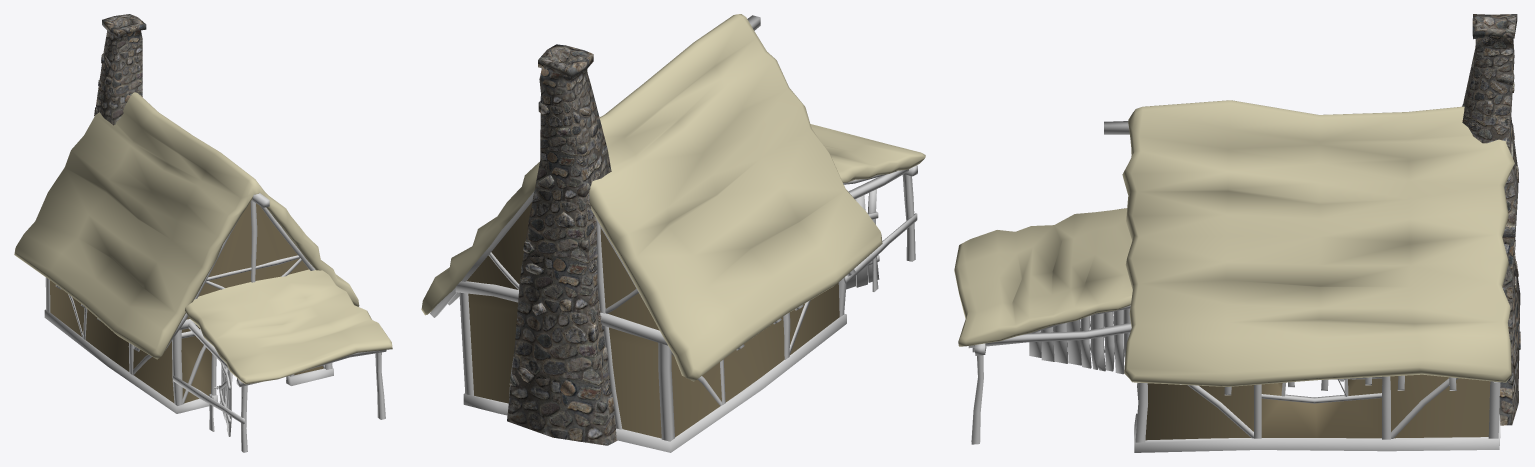
Rendered from blacksmith.dae.
3 views of the same model, side by side, from view 1: azimuth 30°, elevation 25°; view 2: azimuth 150°, elevation 25°; view 3: azimuth 270°, elevation 25° (orthographic). The views are drawn at different scales.
Visible parts, largest first — view 1: budynek_001, wiata_001, budynek_002, budynek, piec, wiata, drzwi; view 2: budynek_001, piec, budynek_002, budynek, wiata_001, wiata, drzwi; view 3: budynek_001, wiata_001, budynek_002, budynek, piec, drzwi, wiata.
Part boxes in pixels (x1=…): budynek_001: x1=14, y1=92, x2=359, y2=359; wiata_001: x1=185, y1=269, x2=392, y2=384; budynek_002: x1=50, y1=202, x2=323, y2=403; budynek: x1=44, y1=193, x2=333, y2=413; piec: x1=94, y1=14, x2=146, y2=125; wiata: x1=173, y1=322, x2=386, y2=452; drzwi: x1=213, y1=363, x2=232, y2=436; budynek_001: x1=421, y1=14, x2=882, y2=381; piec: x1=507, y1=44, x2=617, y2=445; budynek_002: x1=466, y1=202, x2=839, y2=438; budynek: x1=430, y1=15, x2=855, y2=452; wiata_001: x1=810, y1=124, x2=925, y2=182; wiata: x1=843, y1=165, x2=917, y2=291; drzwi: x1=846, y1=189, x2=879, y2=289; budynek_001: x1=1122, y1=100, x2=1514, y2=386; wiata_001: x1=954, y1=208, x2=1132, y2=346; budynek_002: x1=1145, y1=374, x2=1490, y2=440; budynek: x1=1104, y1=121, x2=1500, y2=452; piec: x1=1462, y1=14, x2=1520, y2=425; drzwi: x1=1029, y1=308, x2=1130, y2=374; wiata: x1=968, y1=305, x2=1131, y2=444.
Bounding box in the file's own units: 5.66 × 9.51 × 7.09.
Materials: 8 (2 with a texture image).
